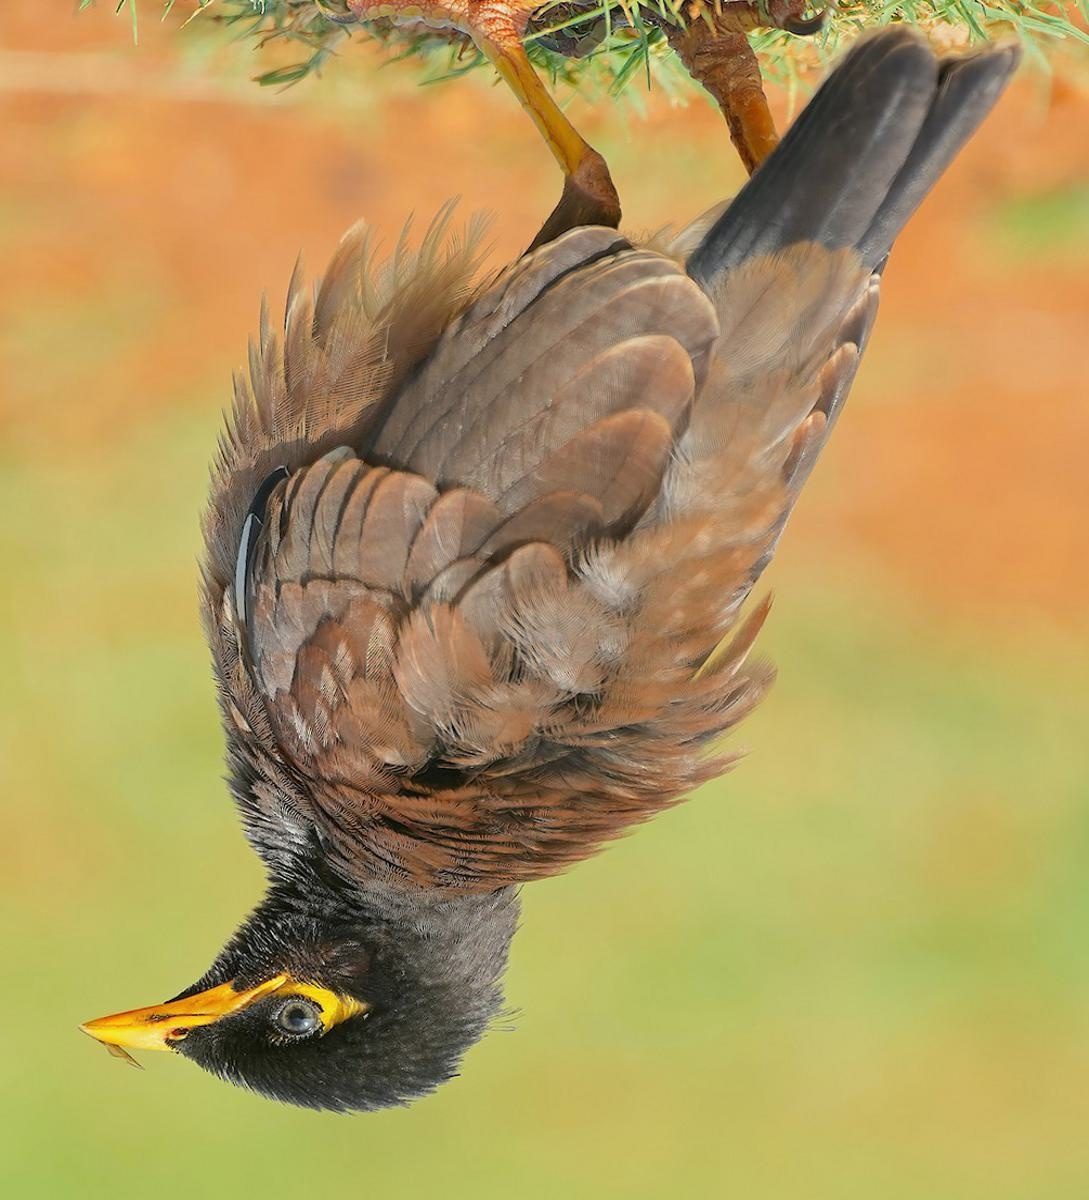myna: (116, 53, 1057, 1135)
